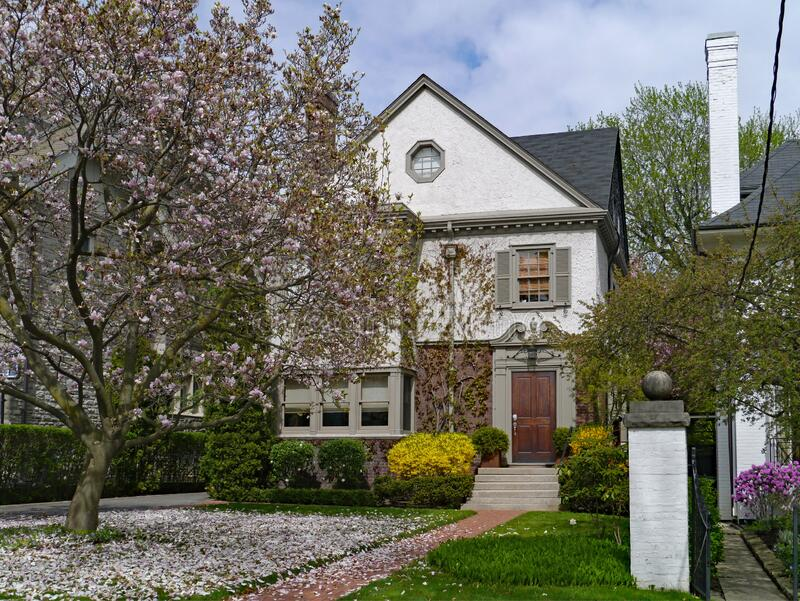bush: (5, 420, 202, 485), (390, 435, 482, 507), (265, 435, 318, 487), (318, 435, 363, 489)
tree: (2, 3, 417, 534)
